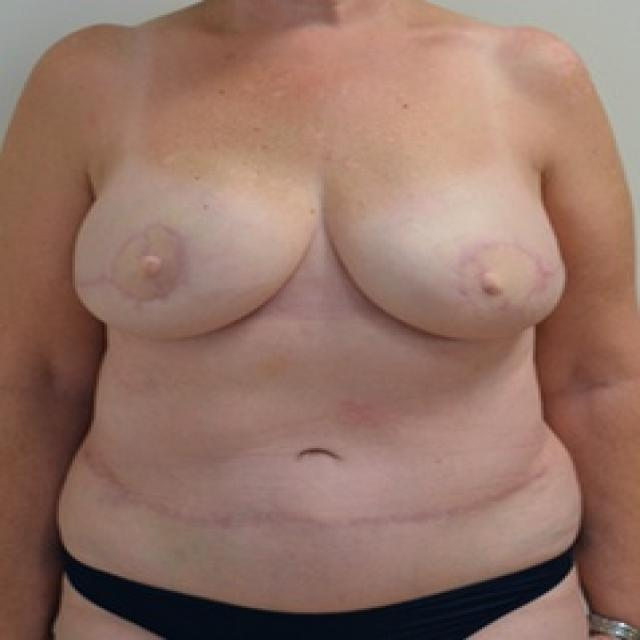Seno herido: (322, 130, 580, 359), (61, 130, 317, 359)
